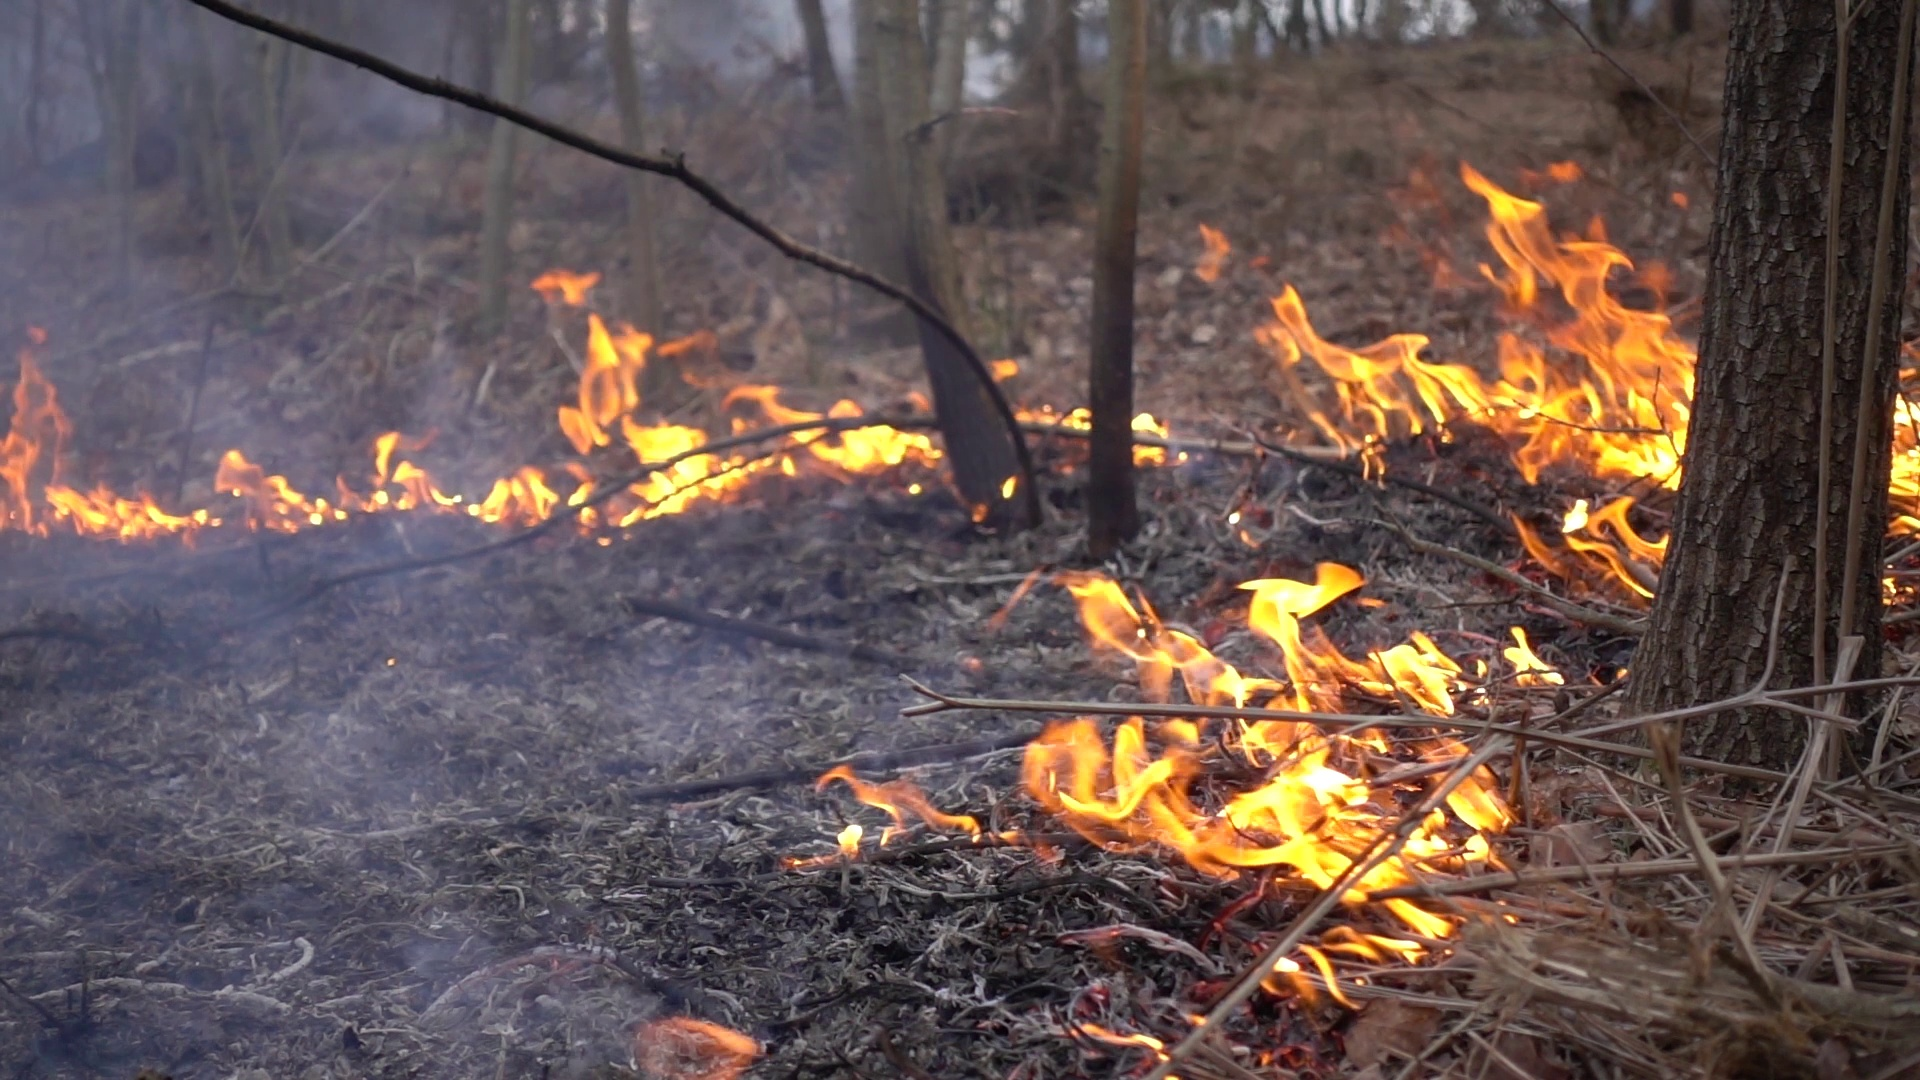fire: (1022, 564, 1524, 1006), (1269, 193, 1691, 560), (483, 262, 942, 533), (1, 433, 440, 537), (1890, 382, 1920, 516), (1129, 411, 1167, 465)
